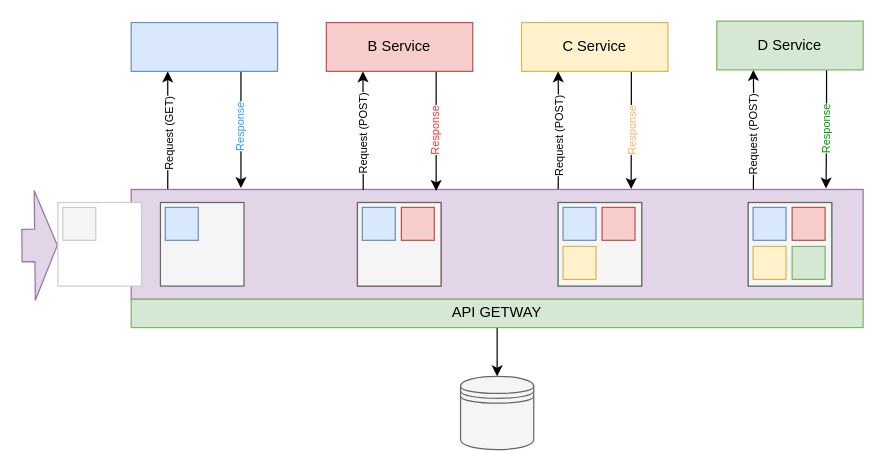
Some shapes in this 885 by 472 pixel diagram are drawn without their labels. The centre of each missing label's shape, as x and y in pixels:
A Service: the point at 204,46
DB: the point at 496,412
